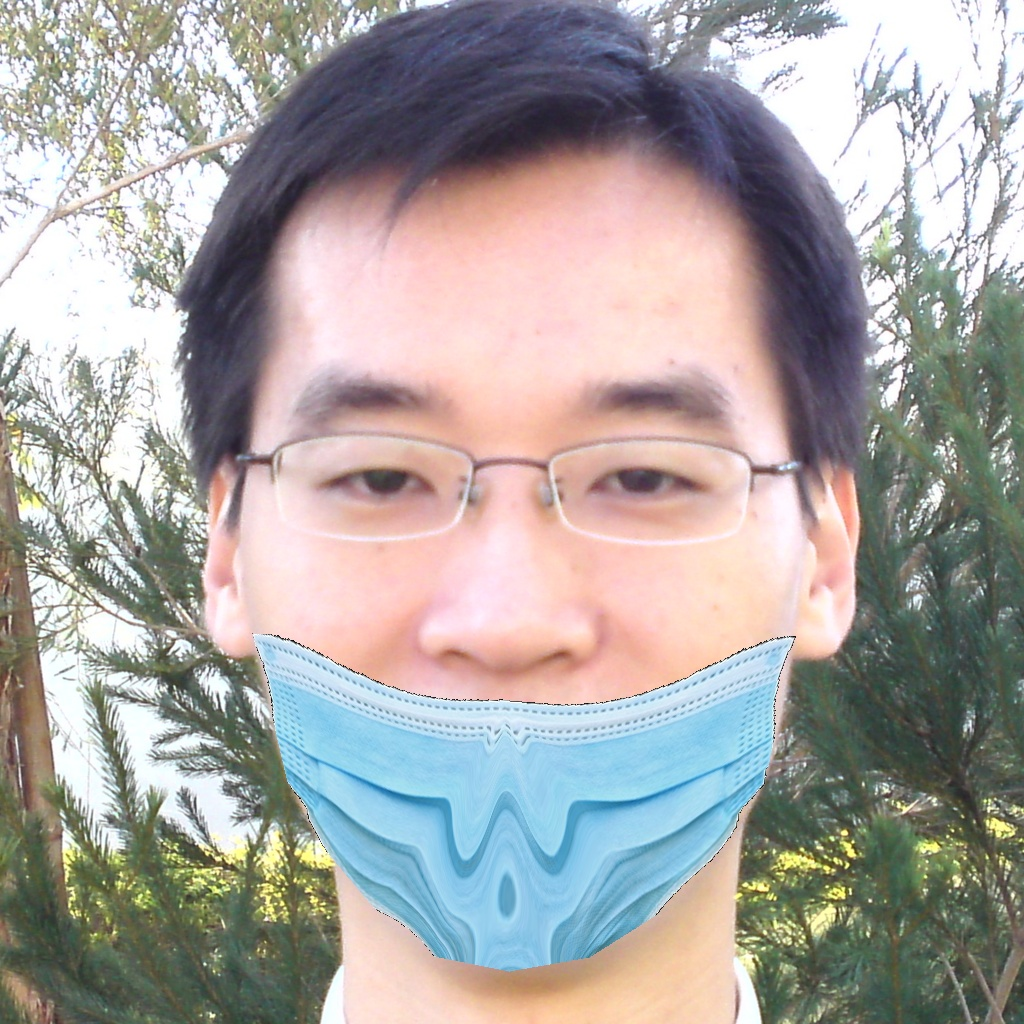mascarilla_mal_puesta: (217, 363, 747, 943)
